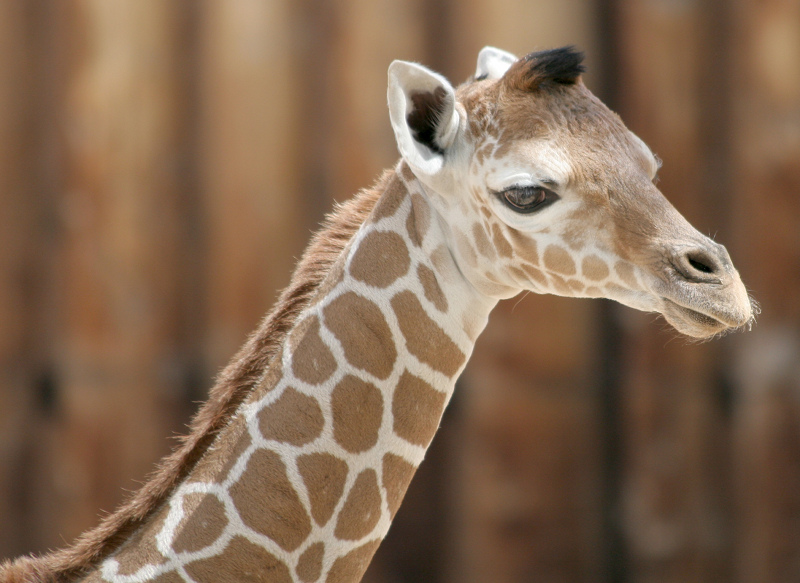giraffe: (41, 31, 767, 559)
